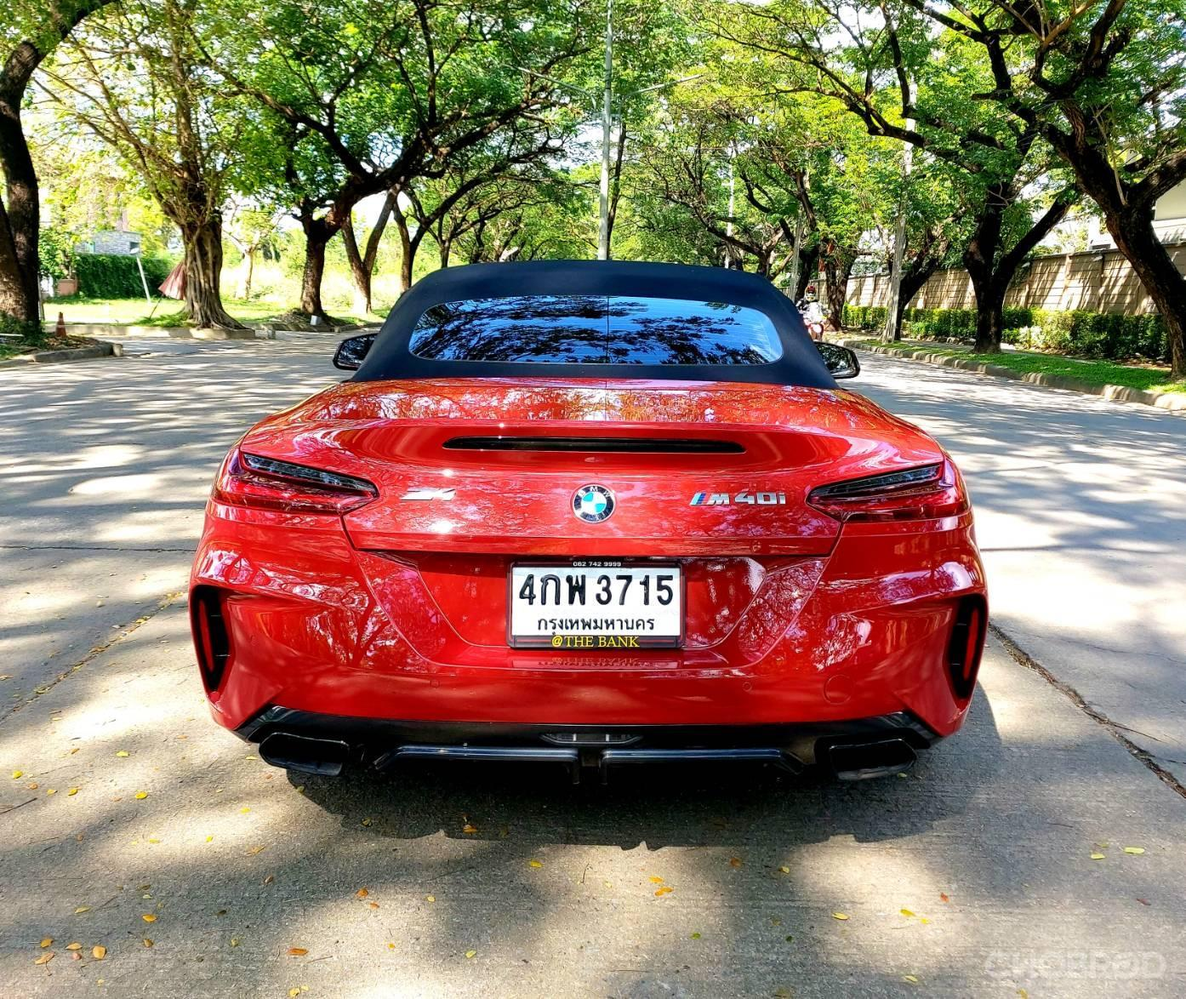license-plate: (511, 561, 686, 648)
